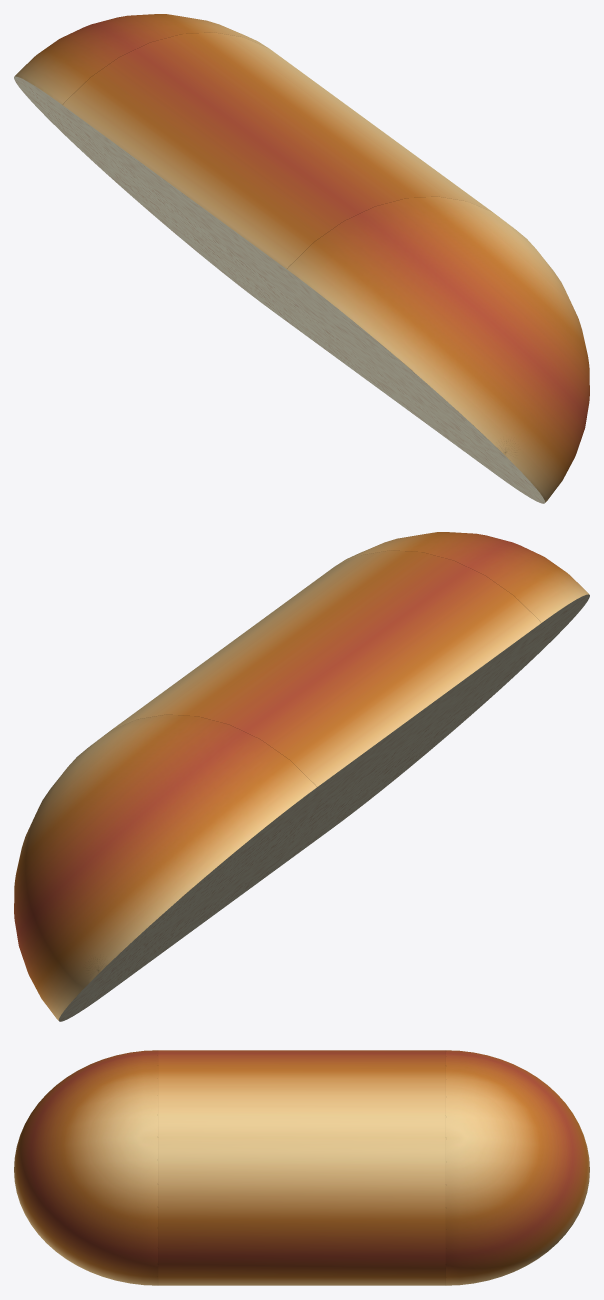
The model's file is top.obj.
3 views of the same model, one above another, from view 1: azimuth 30°, elevation 25°; view 2: azimuth 150°, elevation 25°; view 3: azimuth 270°, elevation 25° (orthographic). The views are drawn at different scales.
Visible parts, largest first — view 1: Mesh_2, Mesh_3, Mesh_4, Mesh_1; view 2: Mesh_1, Mesh_3, Mesh_4, Mesh_2; view 3: Mesh_3, Mesh_1, Mesh_2.
Part boxes in pixels (x1,y1,x2,y2): Mesh_2: (287, 196, 589, 502); Mesh_3: (63, 32, 492, 268); Mesh_4: (14, 76, 544, 503); Mesh_1: (14, 14, 267, 104); Mesh_1: (14, 714, 316, 1020); Mesh_3: (111, 550, 540, 786); Mesh_4: (59, 594, 589, 1021); Mesh_2: (336, 532, 589, 622); Mesh_3: (158, 1050, 445, 1285); Mesh_1: (446, 1050, 589, 1285); Mesh_2: (14, 1050, 157, 1285).
Bounding box in the file's own units: 1.66 × 1.77 × 4.8.
Materials: 4 (4 with a texture image).
